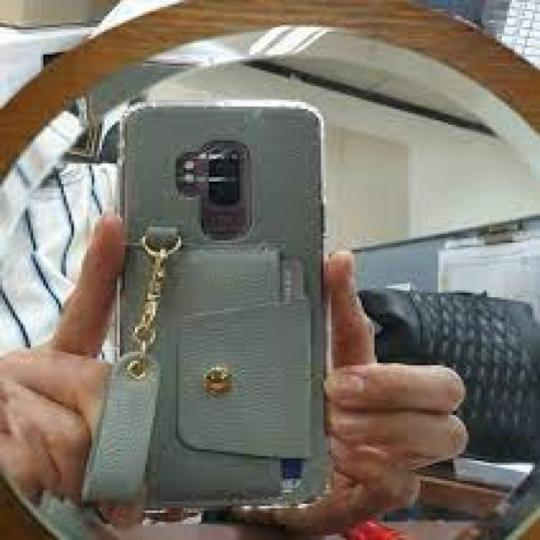phone: (114, 96, 327, 512)
